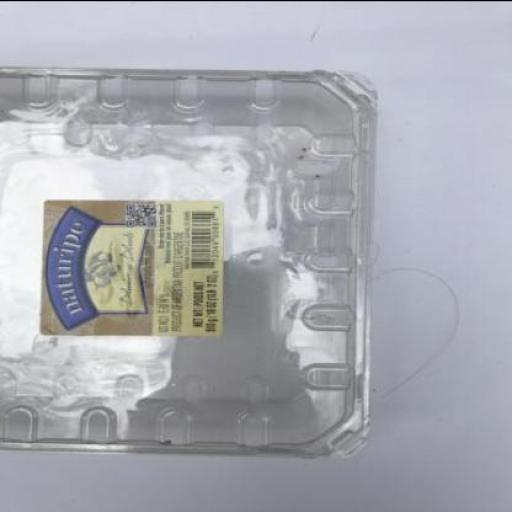plastic: (2, 62, 378, 457)
